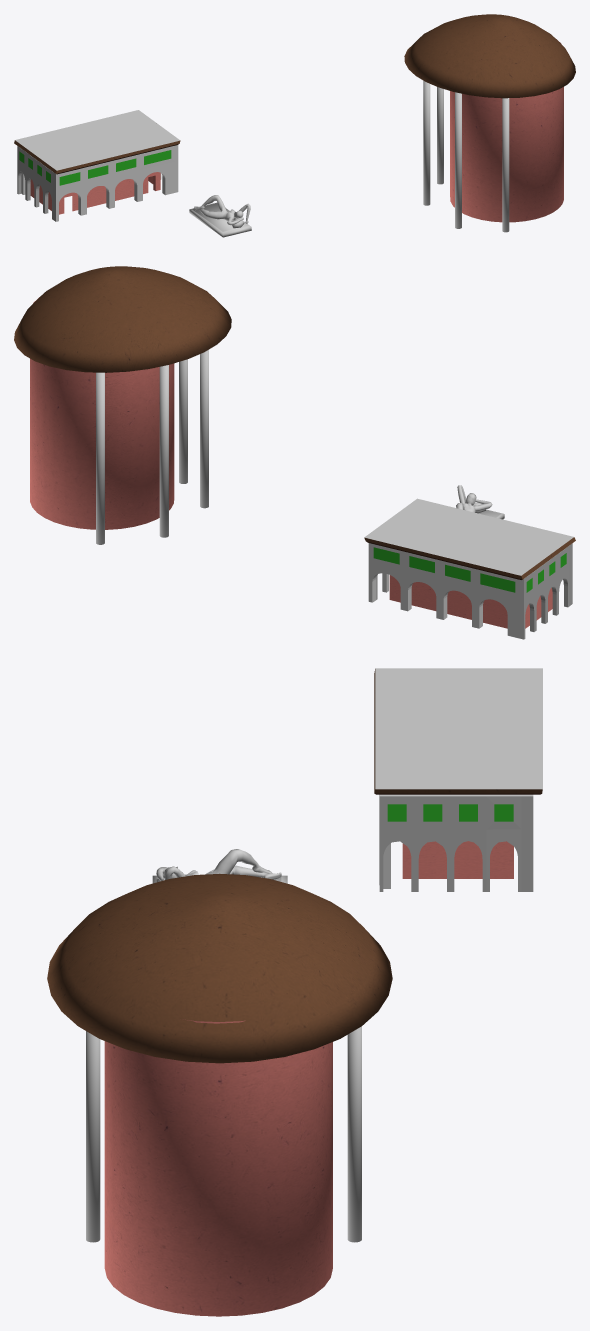
The model's file is KiricoMap.obj.
The picture shows the model from 3 angles, top to bottom: view 1: azimuth 30°, elevation 25°; view 2: azimuth 150°, elevation 25°; view 3: azimuth 270°, elevation 25°; orthographic projection. The views are drawn at different scales.
Visible parts, largest first — view 1: ConstructionBase.007_Cylinder, BuildingRoof.007_Cube.003, Arco.007_Cube.006, statue.new_Cube.013, BuildingExt.001_Cube.019; view 2: ConstructionBase.007_Cylinder, BuildingRoof.007_Cube.003, Arco.007_Cube.006, BuildingExt.001_Cube.019, statue.new_Cube.013; view 3: ConstructionBase.007_Cylinder, BuildingRoof.007_Cube.003, Arco.007_Cube.006, BuildingExt.001_Cube.019, statue.new_Cube.013.
Boxes of the visible parts, <box> form: ConstructionBase.007_Cylinder: <box>404,14,575,232</box>; BuildingRoof.007_Cube.003: <box>14,110,180,174</box>; Arco.007_Cube.006: <box>17,145,178,221</box>; statue.new_Cube.013: <box>189,195,251,237</box>; BuildingExt.001_Cube.019: <box>30,172,160,214</box>; ConstructionBase.007_Cylinder: <box>14,266,231,544</box>; BuildingRoof.007_Cube.003: <box>364,498,575,579</box>; Arco.007_Cube.006: <box>368,543,572,639</box>; BuildingExt.001_Cube.019: <box>389,575,552,628</box>; statue.new_Cube.013: <box>456,485,504,519</box>; ConstructionBase.007_Cylinder: <box>47,873,392,1316</box>; BuildingRoof.007_Cube.003: <box>374,668,542,794</box>; Arco.007_Cube.006: <box>379,794,533,891</box>; BuildingExt.001_Cube.019: <box>402,841,513,878</box>; statue.new_Cube.013: <box>152,849,287,883</box>.
Bounding box in the file's own units: 61.4 × 22.77 × 28.05.
9 materials, 4 textured.
